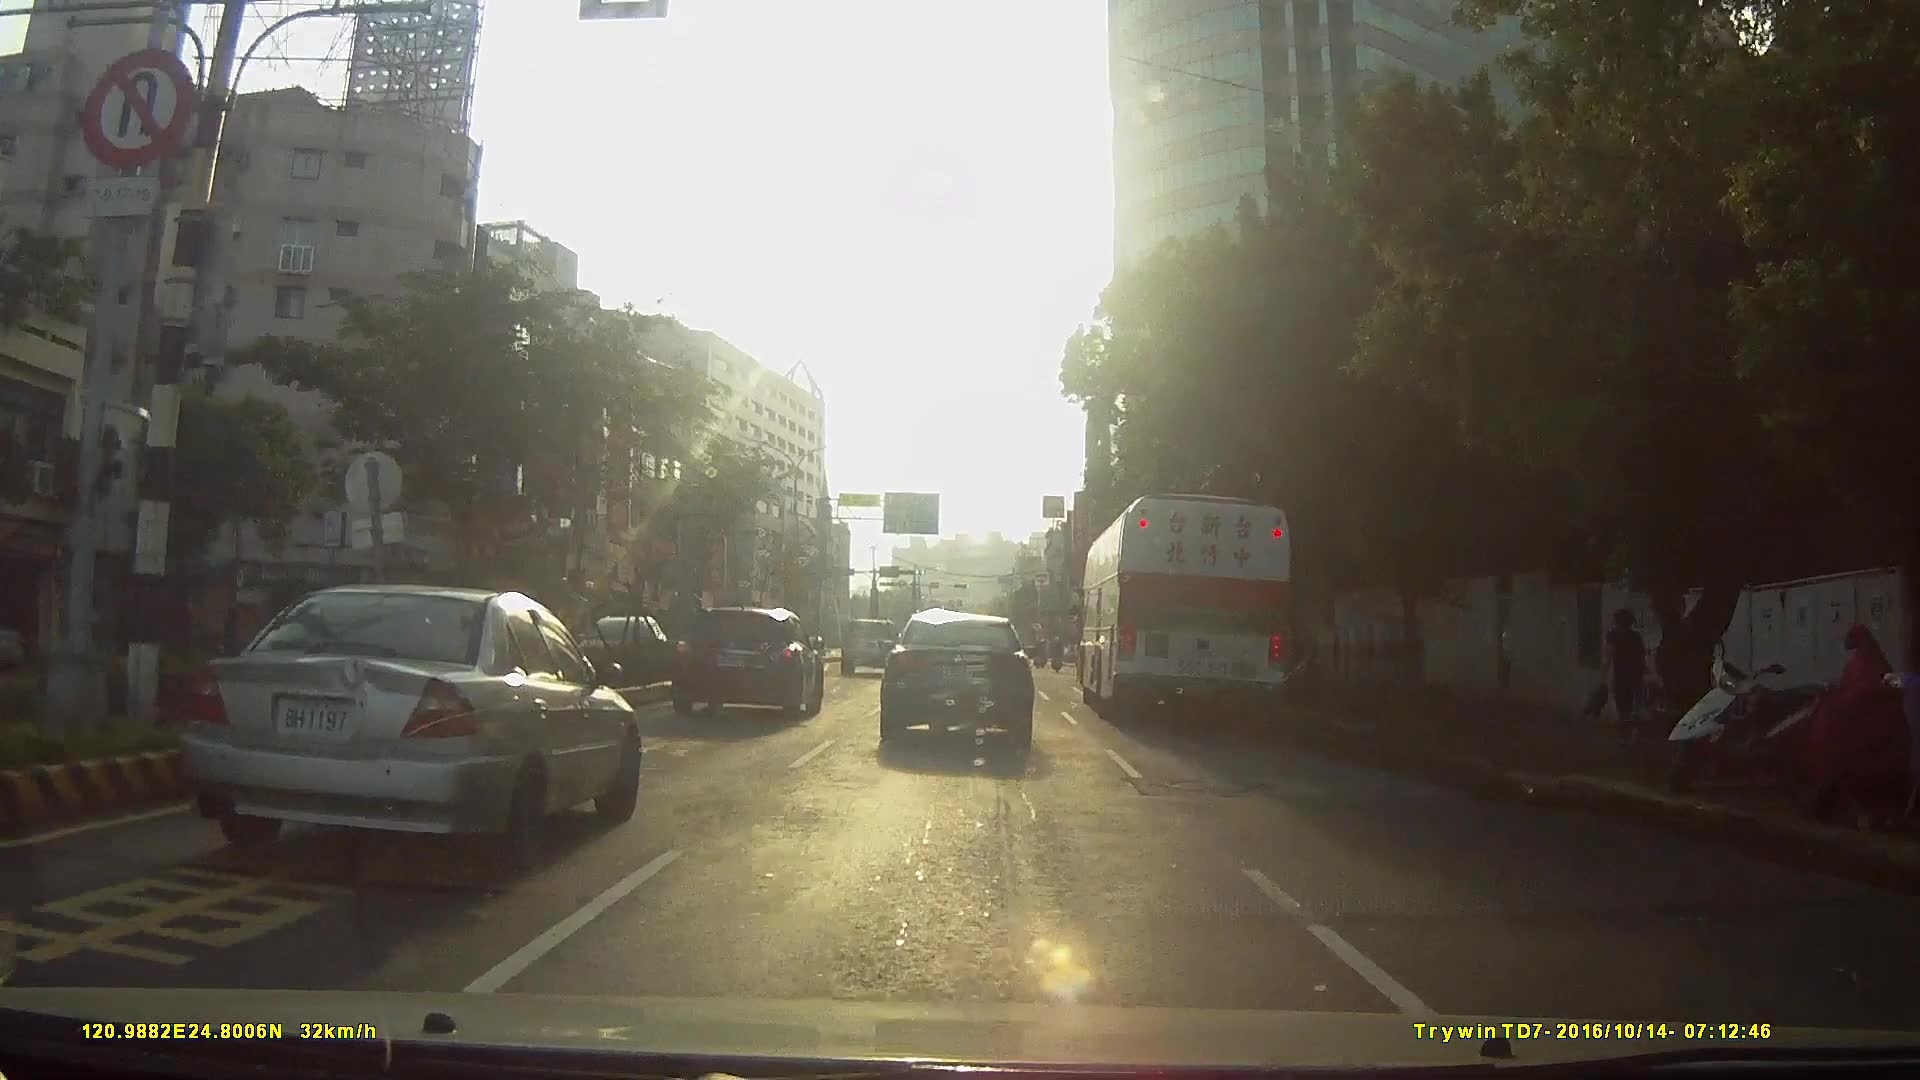pedestrian: (1604, 605, 1651, 737)
vehicle: (170, 582, 639, 877), (1081, 485, 1300, 722), (876, 609, 1036, 752), (669, 602, 824, 721), (838, 614, 901, 673)
